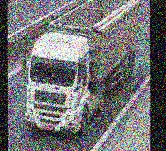truck: (19, 0, 145, 139)
